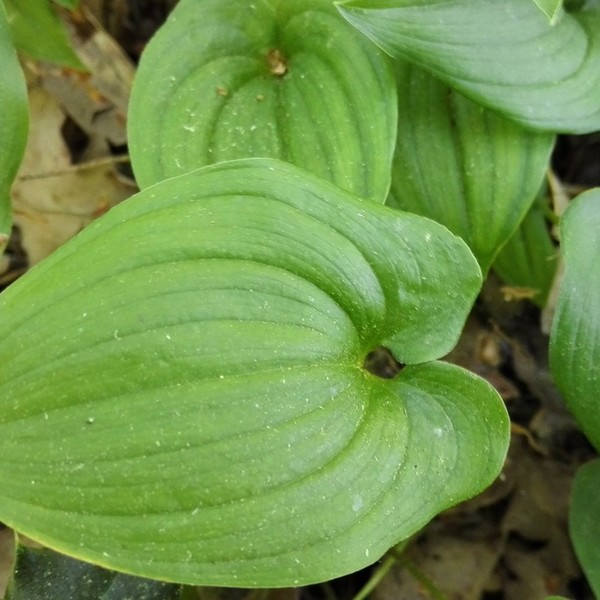obstacle: (7, 142, 500, 576), (123, 6, 559, 221)
